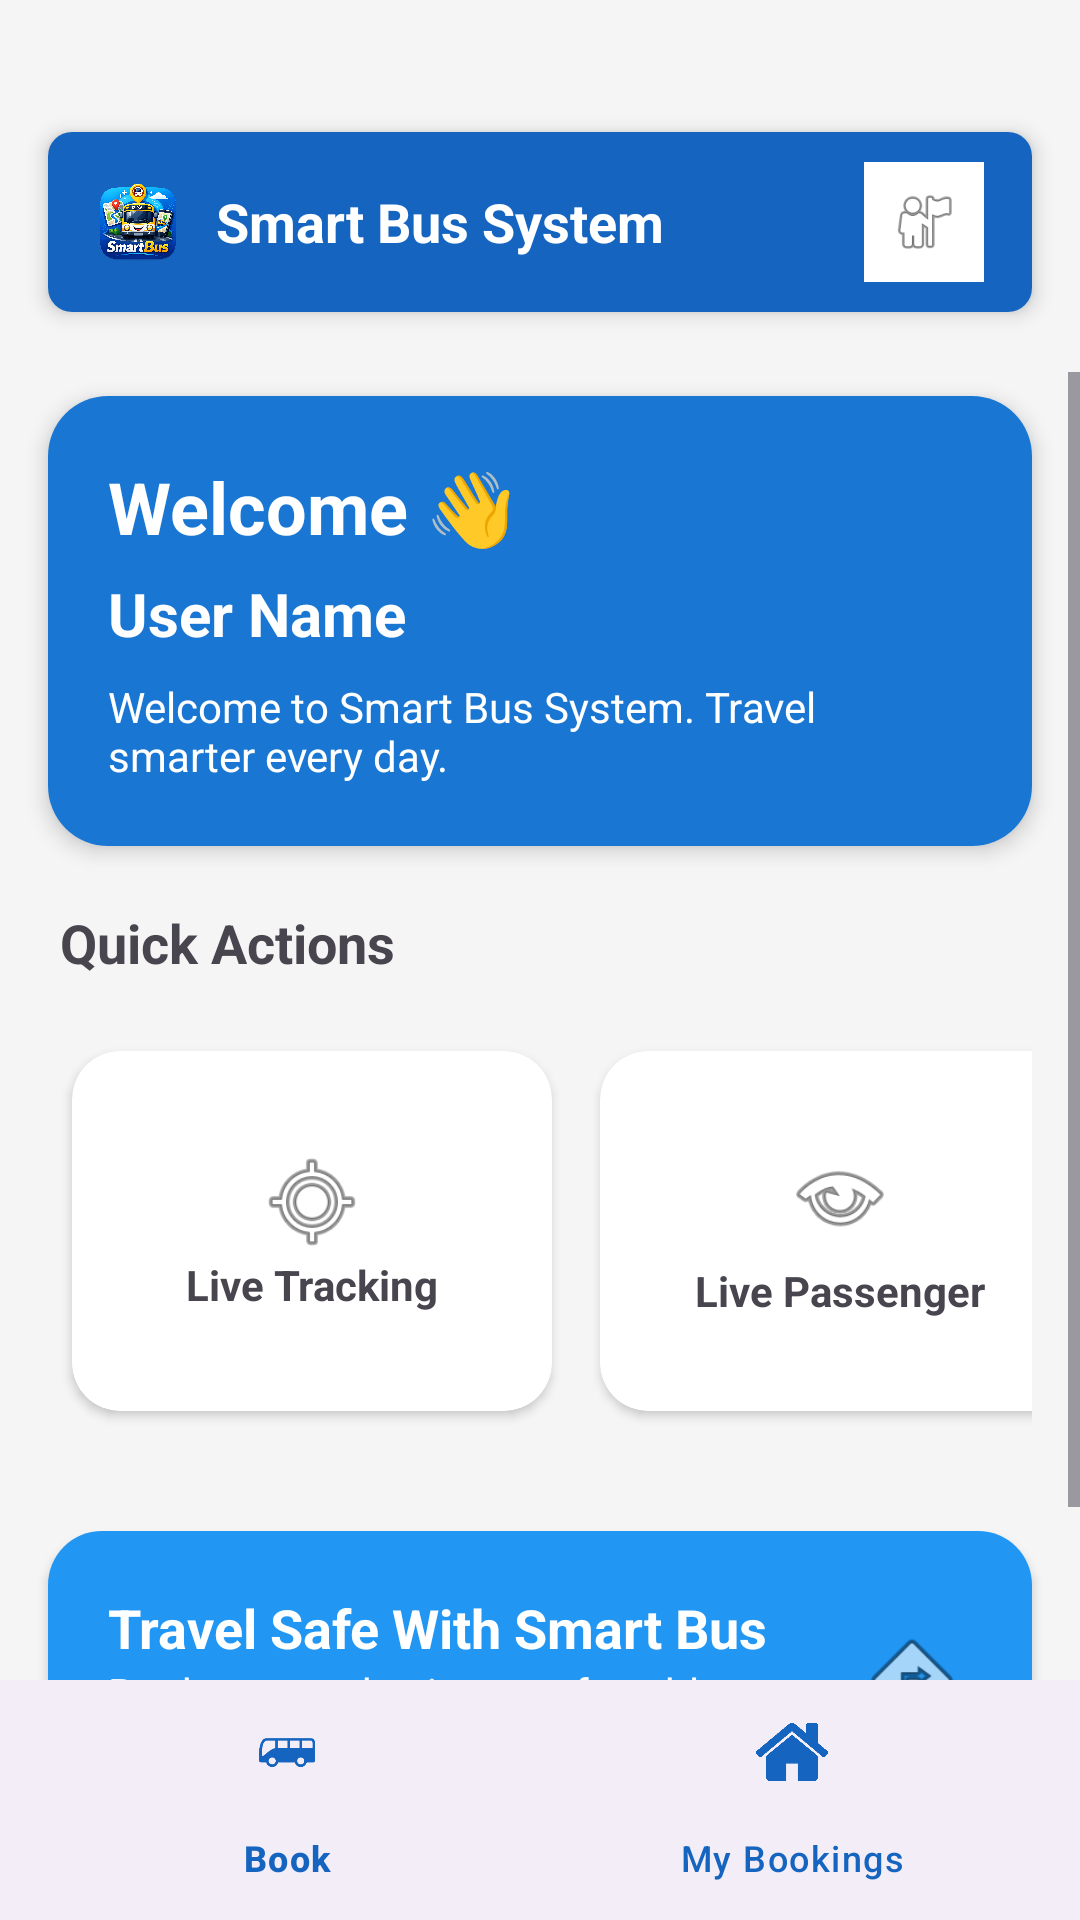

Where icons sit on this 1080w x 1920h app screen, as box(x1, y1, x2, y2):
mylocation: box(269, 1159, 355, 1245)
view: box(796, 1171, 884, 1227)
